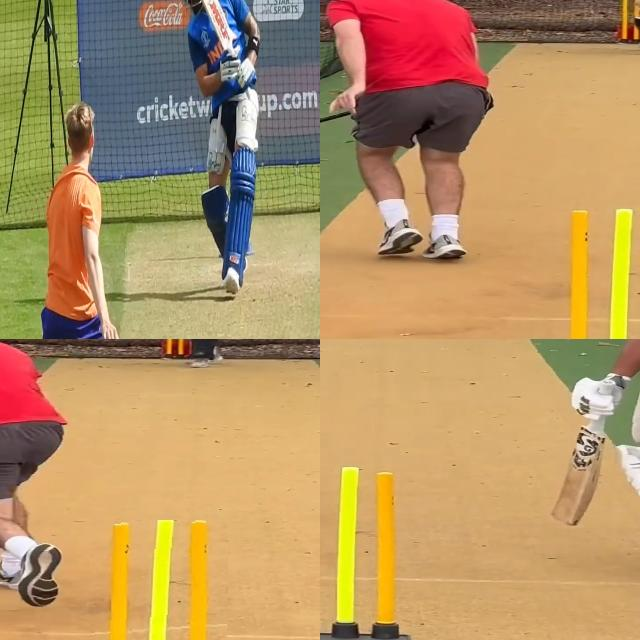Stumps: (89, 520, 229, 640), (320, 465, 415, 640), (547, 206, 640, 339)
